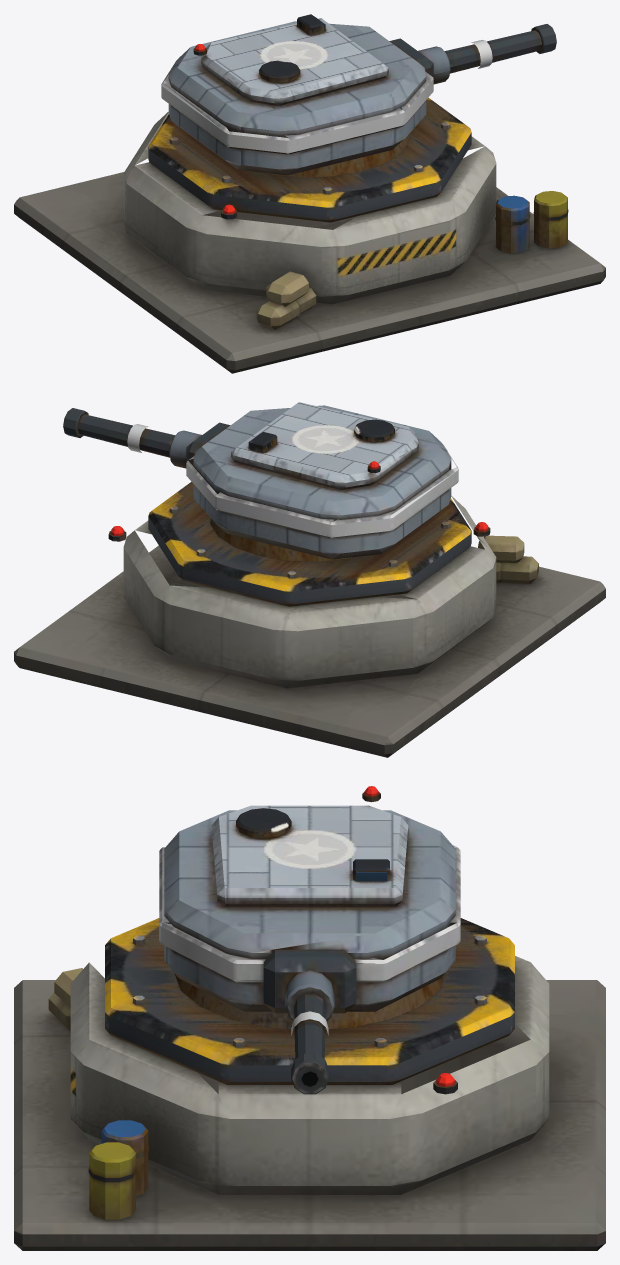
Rendered from gun.allies.glb.
The picture shows the model from 3 angles, top to bottom: view 1: azimuth 30°, elevation 25°; view 2: azimuth 150°, elevation 25°; view 3: azimuth 270°, elevation 25°; orthographic projection. The views are drawn at different scales.
Parts seen in each view (by area): view 1: root_mesh, turret_mesh, b0_mesh; view 2: root_mesh, turret_mesh, b0_mesh; view 3: root_mesh, turret_mesh, b0_mesh.
Part boxes in pixels (x1,y1,x2,y2): root_mesh: (14, 97, 605, 373); turret_mesh: (161, 14, 433, 175); b0_mesh: (418, 24, 556, 84); root_mesh: (14, 482, 605, 757); turret_mesh: (186, 402, 458, 559); b0_mesh: (63, 408, 201, 468); root_mesh: (14, 918, 605, 1250); turret_mesh: (159, 786, 460, 1013); b0_mesh: (285, 970, 334, 1094).
Size of the model in its own units: 1.09 by 0.511 by 0.96.
Materials: 1 (1 with a texture image).
